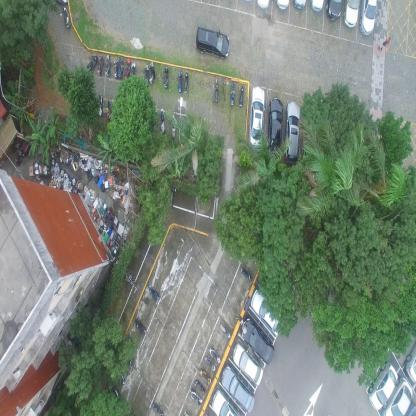car: (220, 365, 256, 414), (240, 316, 275, 365), (250, 287, 284, 337), (232, 340, 264, 387), (368, 361, 398, 410), (382, 375, 413, 415), (194, 25, 230, 59), (248, 84, 266, 152), (266, 96, 284, 163), (284, 98, 300, 164), (211, 388, 243, 415), (358, 0, 378, 37), (342, 0, 360, 29), (404, 340, 416, 382), (325, 0, 343, 20), (308, 0, 324, 14), (292, 0, 307, 12), (274, 0, 290, 9), (256, 0, 269, 8)
